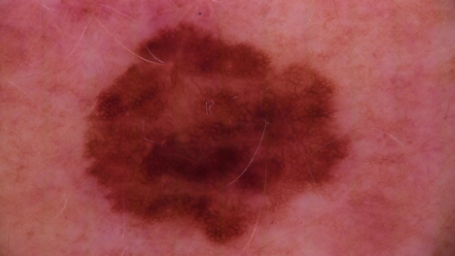melanoma: (86, 25, 344, 247)
